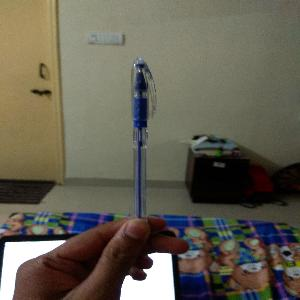pen: (123, 53, 158, 238)
